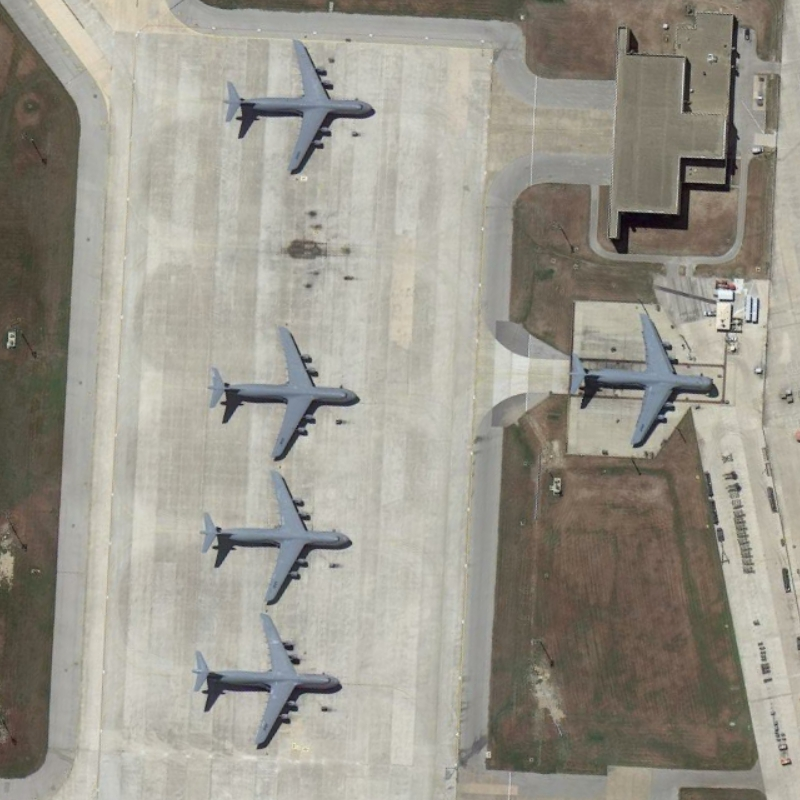A4: (196, 466, 357, 613), (215, 34, 377, 178), (187, 611, 352, 751), (202, 322, 362, 466), (568, 309, 720, 452)
